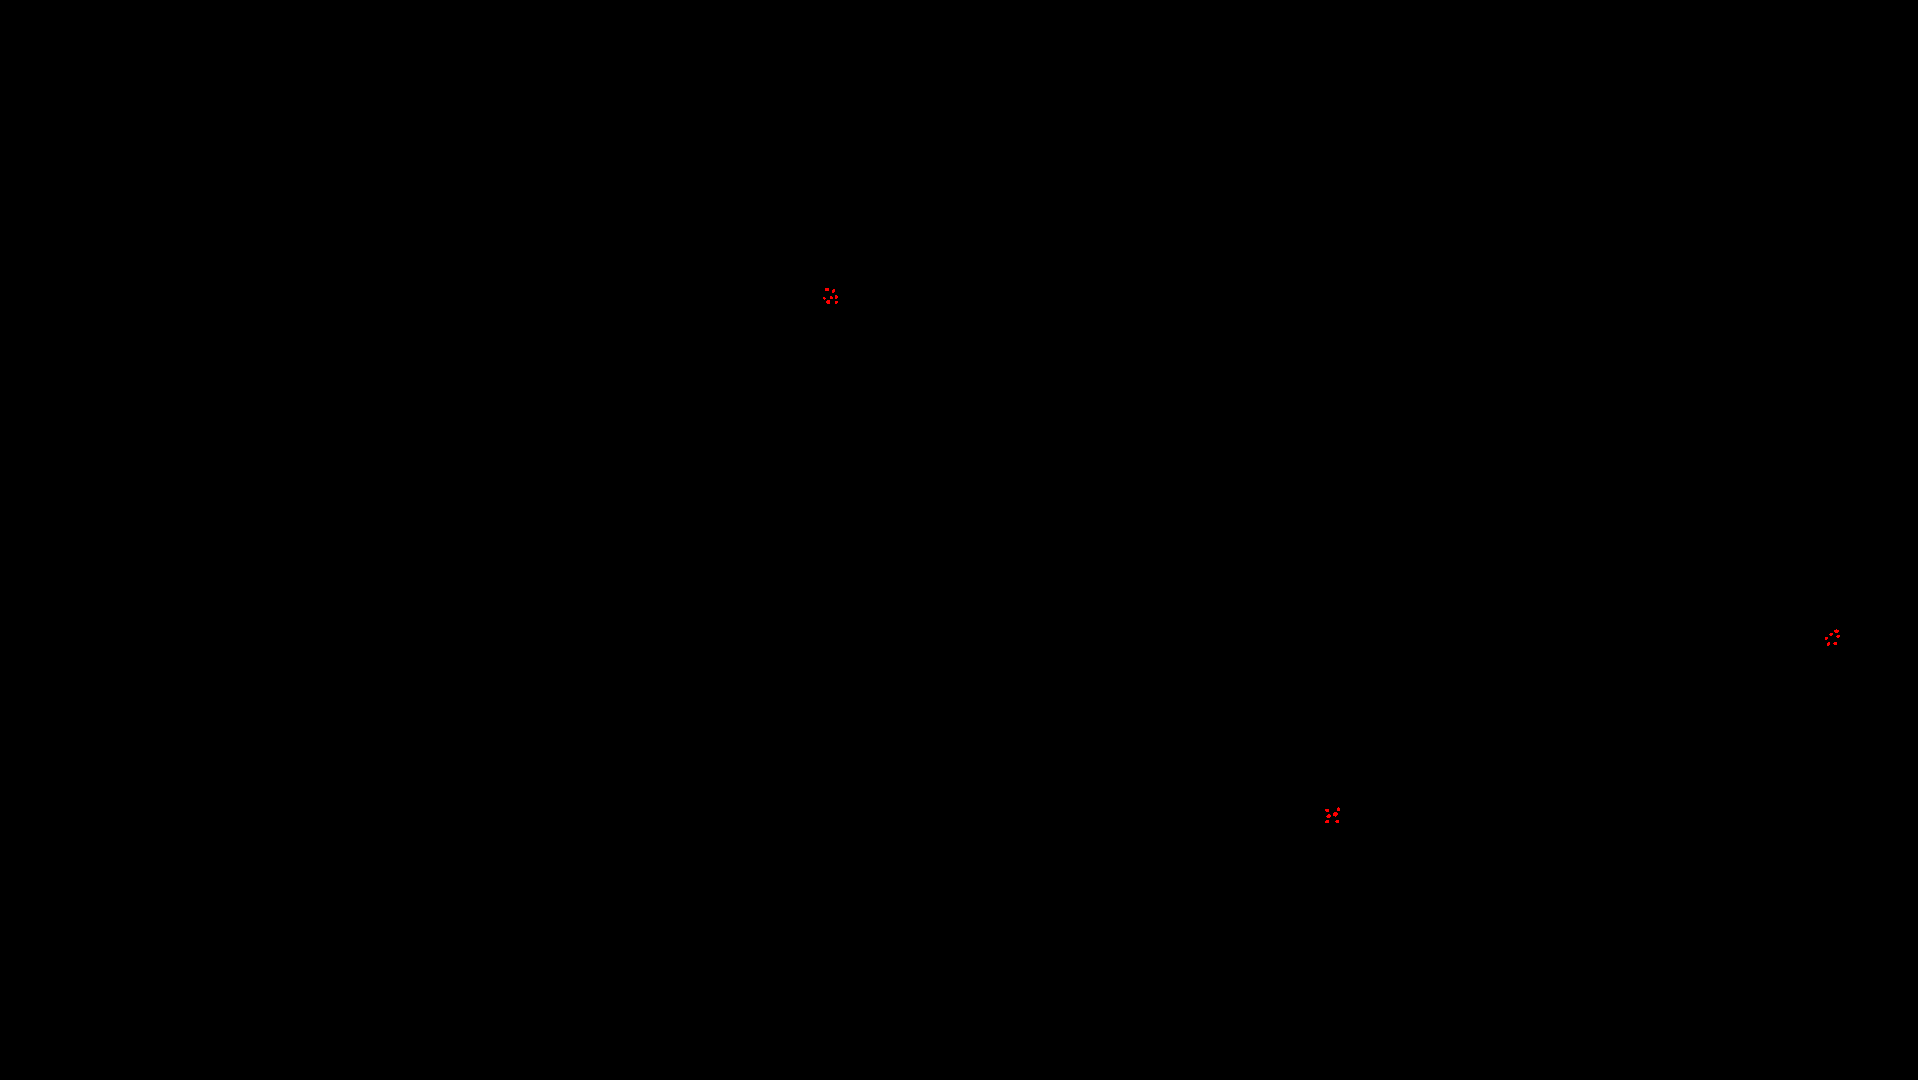Target: (1834, 630, 1839, 634), (1832, 641, 1838, 645), (1333, 813, 1338, 817), (826, 300, 830, 304), (1325, 809, 1329, 813), (1327, 814, 1330, 818), (825, 288, 829, 291), (833, 288, 835, 292), (835, 295, 838, 299), (1828, 634, 1832, 636), (1836, 635, 1840, 637), (1824, 637, 1828, 640), (1827, 641, 1830, 645), (1337, 807, 1340, 811), (1325, 821, 1329, 823), (1334, 821, 1338, 823), (830, 296, 833, 299), (823, 298, 826, 300), (835, 302, 838, 304)
